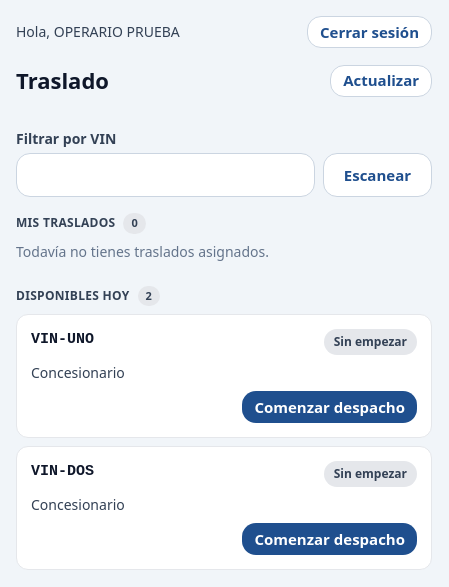
AC2 · otra persona se adelantó › se dice quién, en rojo, y la orden sale del pool
Expected: the text "VIN-UNO" is shown, [31, 329, 94, 352]
Click the button with aria-label "Comenzar despacho VIN-UNO".
click(330, 407)  # box [242, 391, 417, 423]
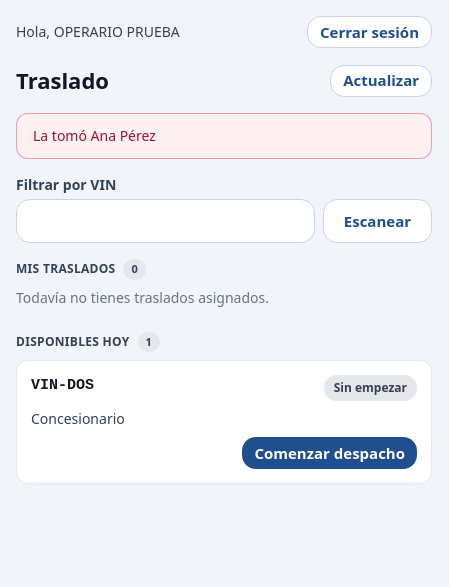
Result: the message reads "La tomó Ana Pérez" at [33, 126, 156, 145]
Result: the text "VIN-UNO" is gone
